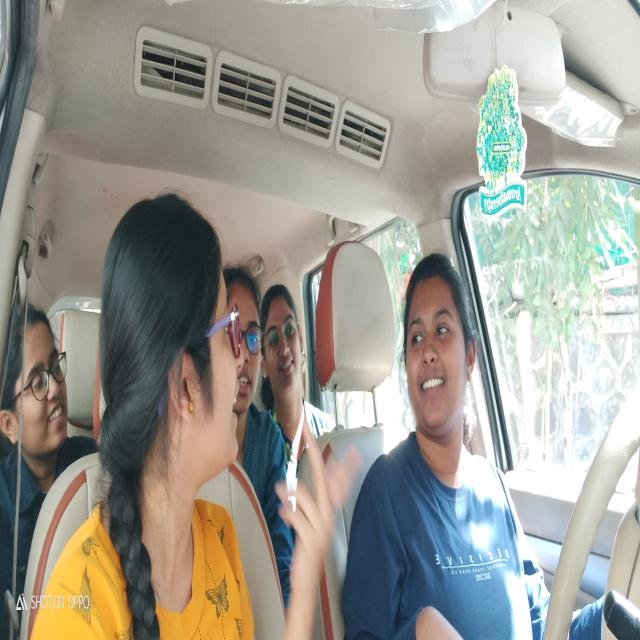LeftRight: (394, 252, 480, 455)
person: (104, 186, 251, 475), (1, 306, 71, 458), (261, 274, 310, 417), (226, 261, 270, 416)
talking: (418, 374, 450, 402), (229, 378, 242, 431)
